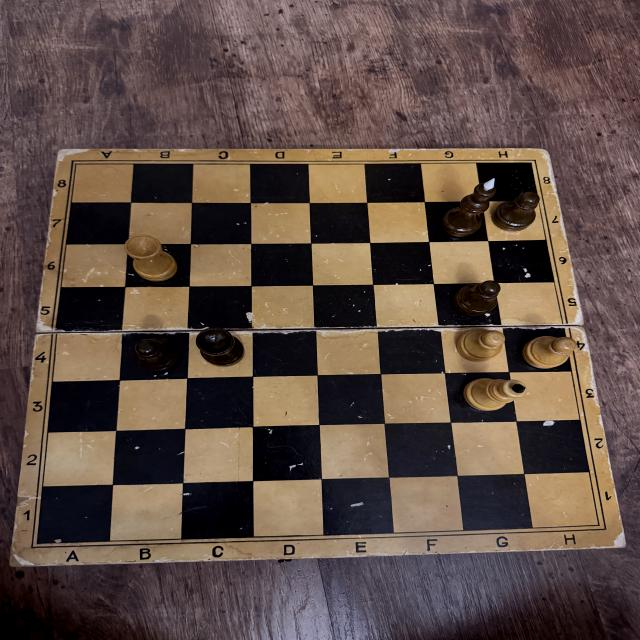black-king: (440, 178, 494, 238)
black-pawn: (130, 334, 182, 374), (455, 277, 501, 319), (494, 190, 540, 231)
black-rook: (194, 328, 245, 367)
white-king: (463, 377, 529, 412)
white-pawn: (523, 333, 577, 371), (458, 328, 505, 362)
white-rook: (124, 236, 178, 282)
